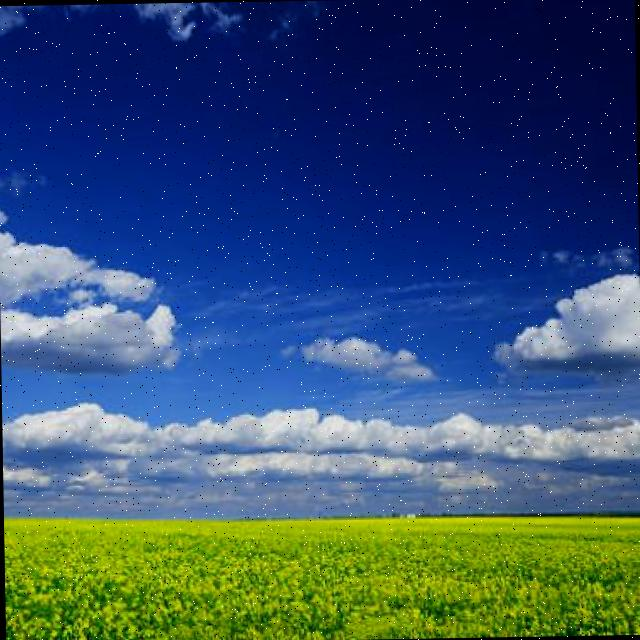Cu: (1, 110, 640, 495)
